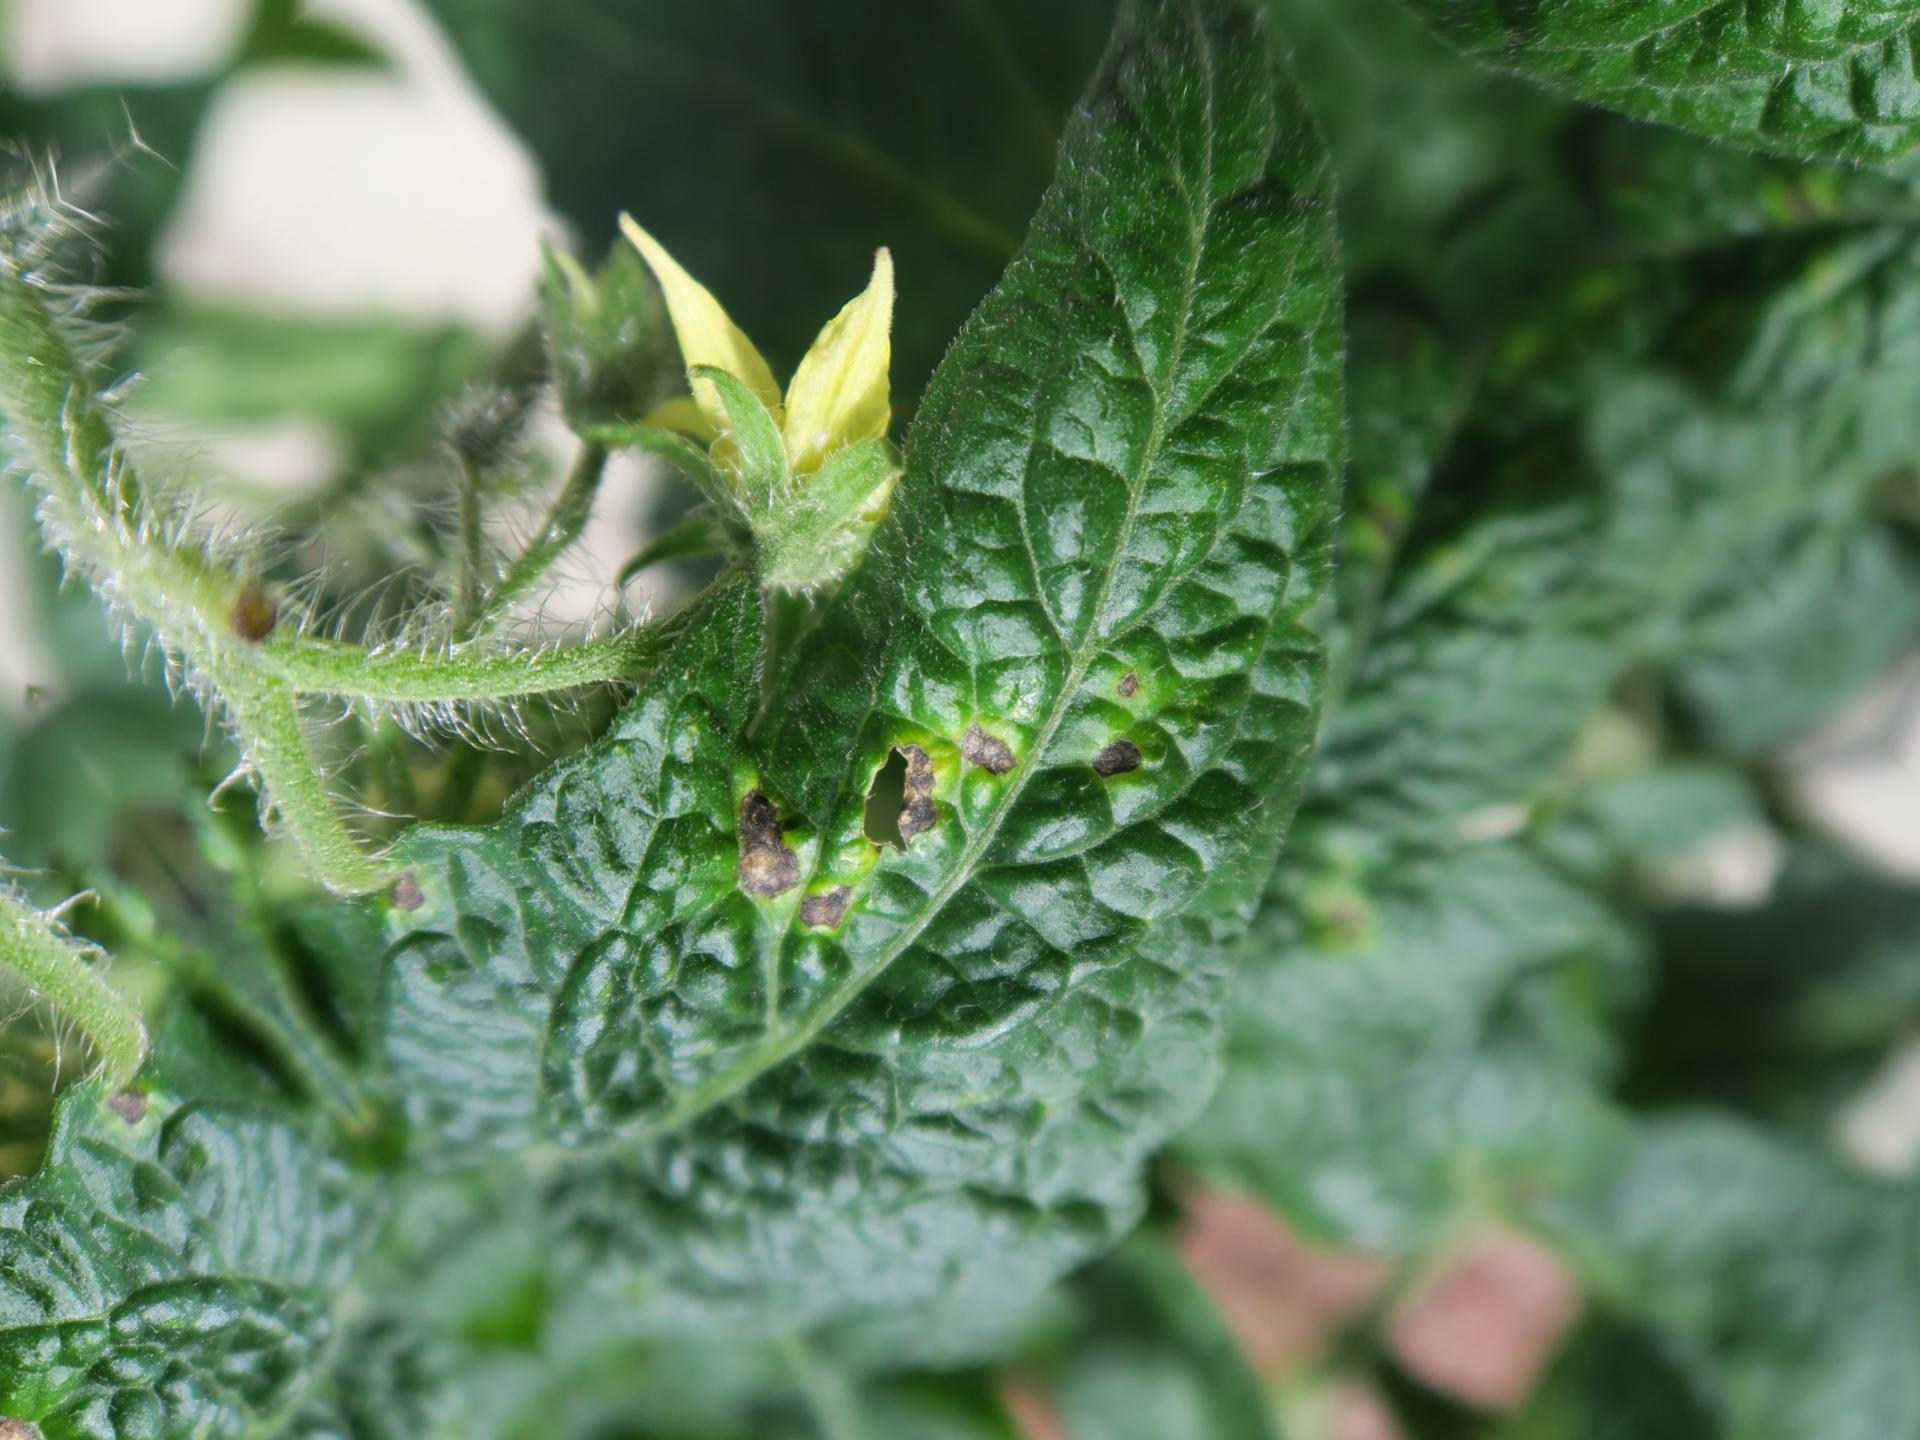Tomato leaf bacterial spot: (144, 0, 1779, 1440)
